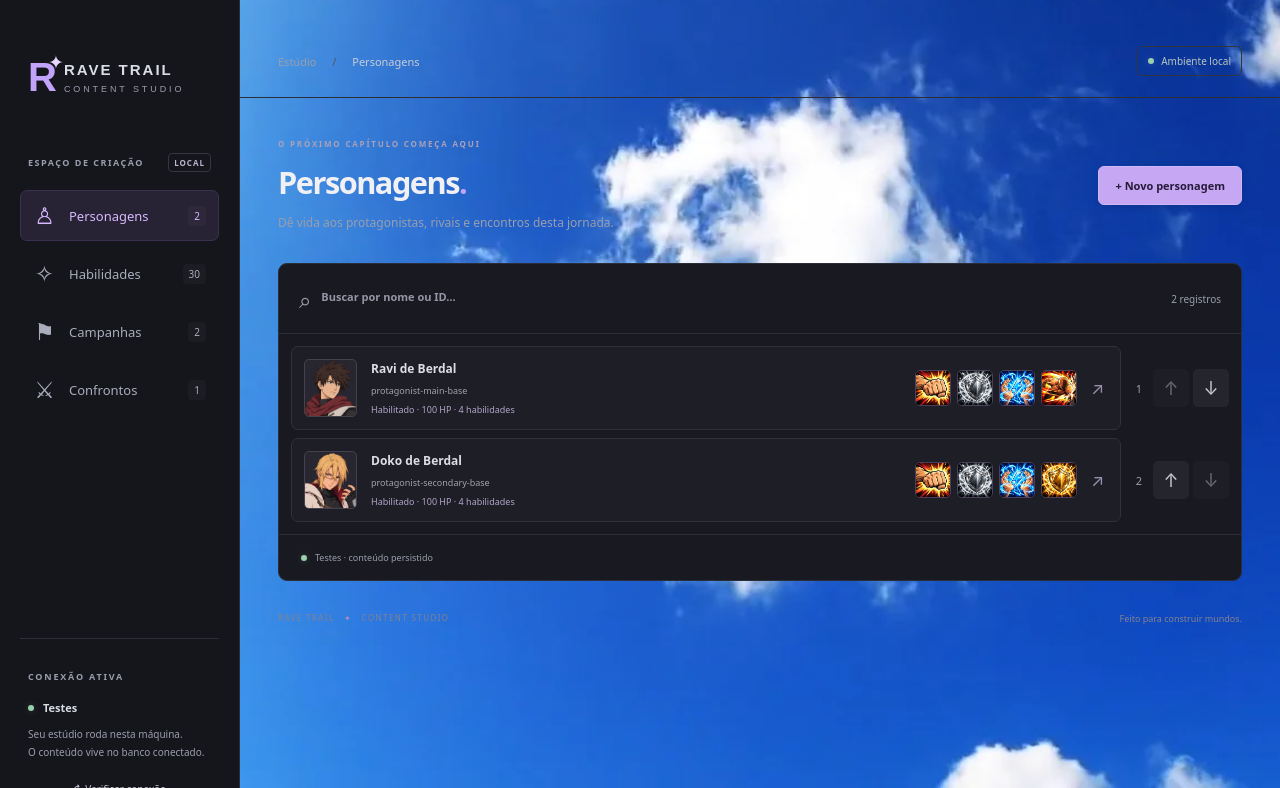
Test: edita missão e vitória sem mortes mantendo a aquisição Premium e o preço
(page scrolled)
Step 1. Click the button "Ravi de Berdal" → (330,388), box 291,346 -> 1121,430
(page scrolled)
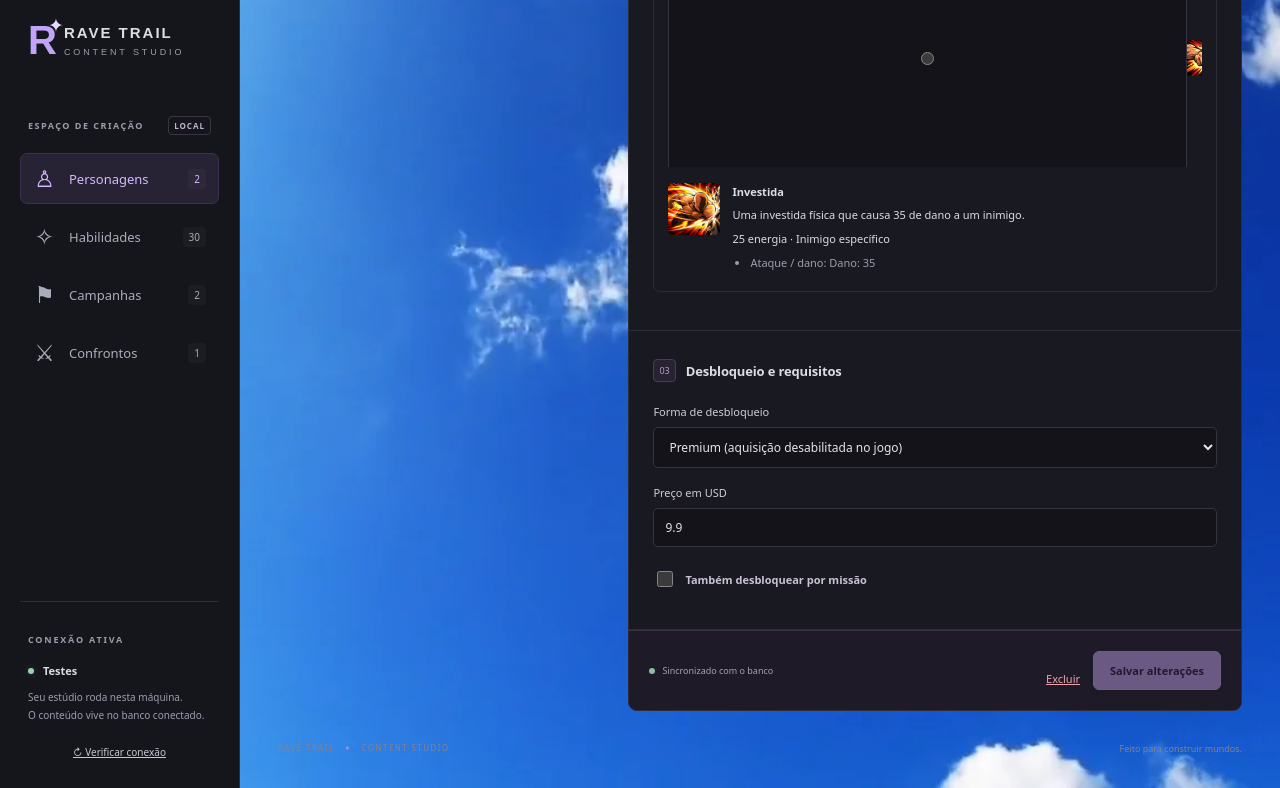
Result: the checkbox labelled "Também desbloquear por missão" is not checked
Step 2. Click the checkbox labelled "Também desbloquear por missão" → (665,579), box 657,571 -> 673,587
(page scrolled)
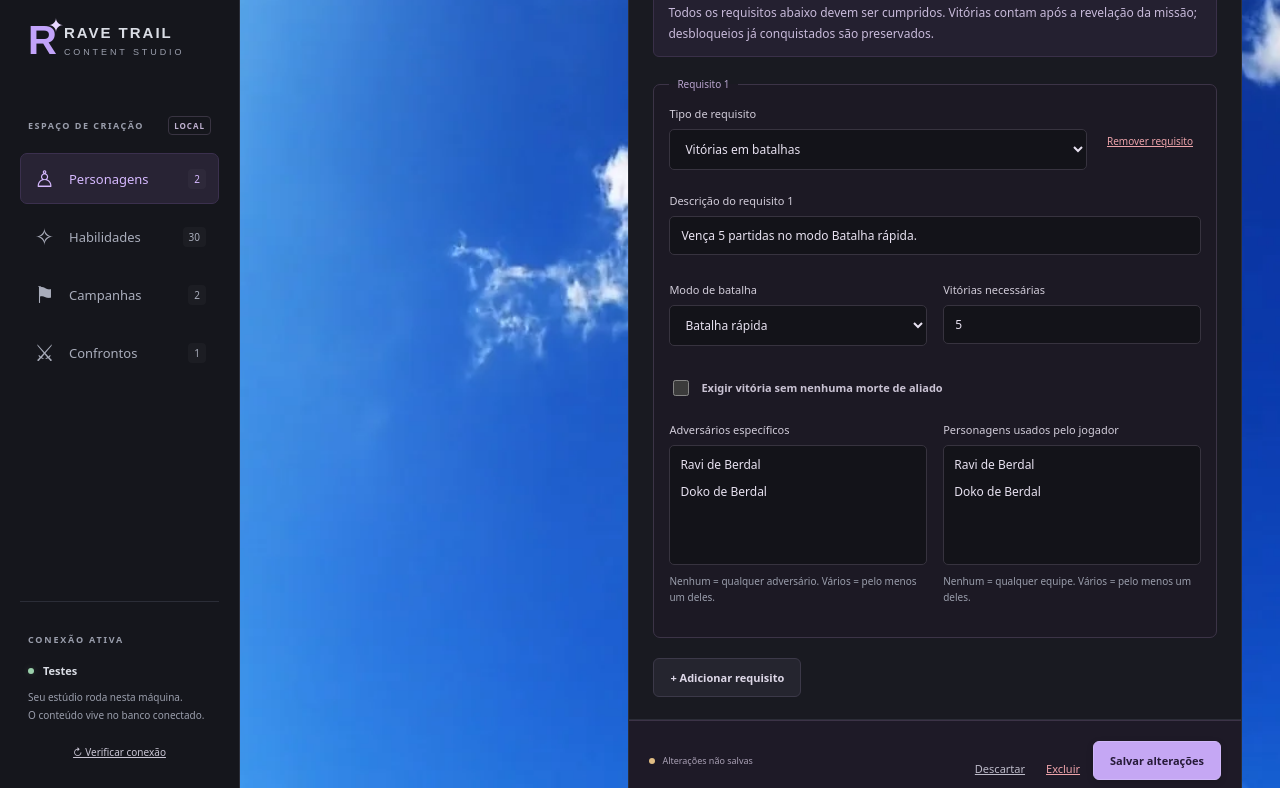
Step 3. Click the checkbox labelled "Exigir vitória sem nenhuma morte de aliado" → (681,388), box 673,380 -> 689,396
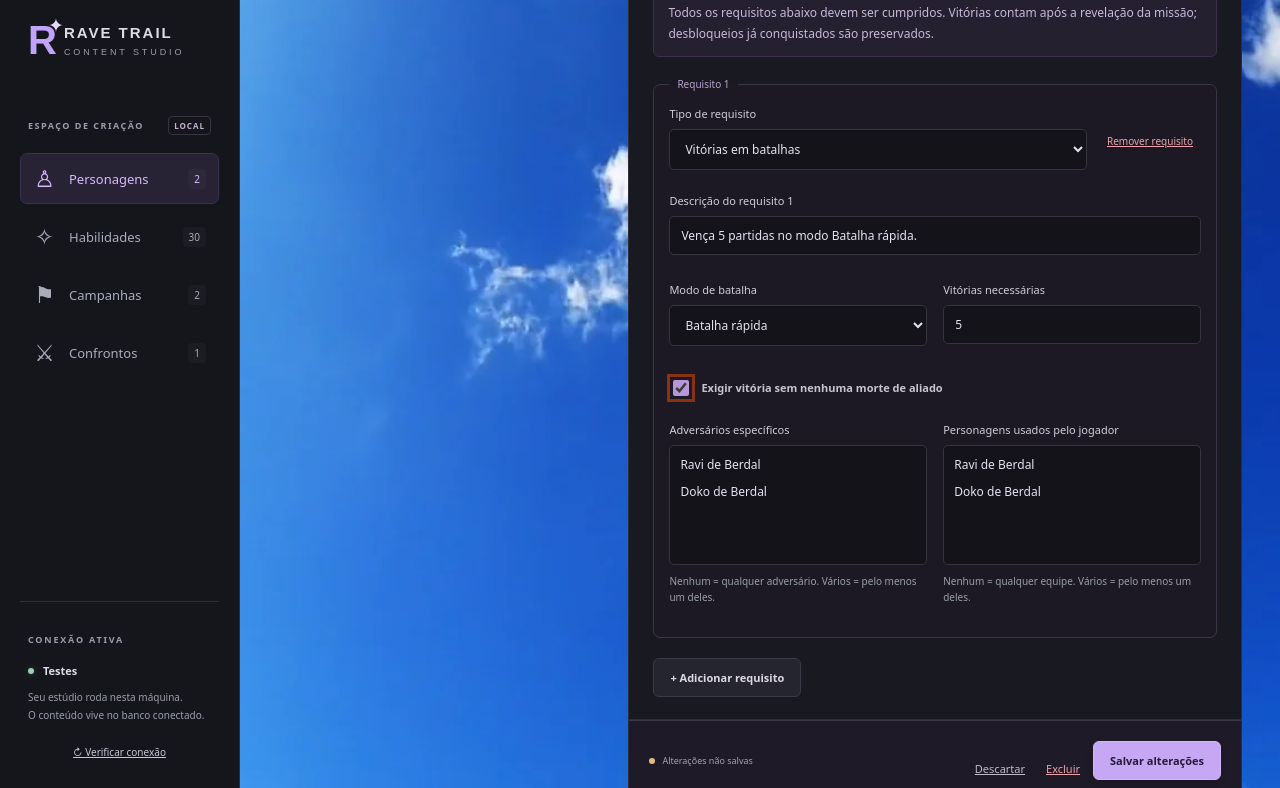
Step 4. Click the button "Salvar alterações" → (1157,761), box 1093,741 -> 1221,780
(page scrolled)
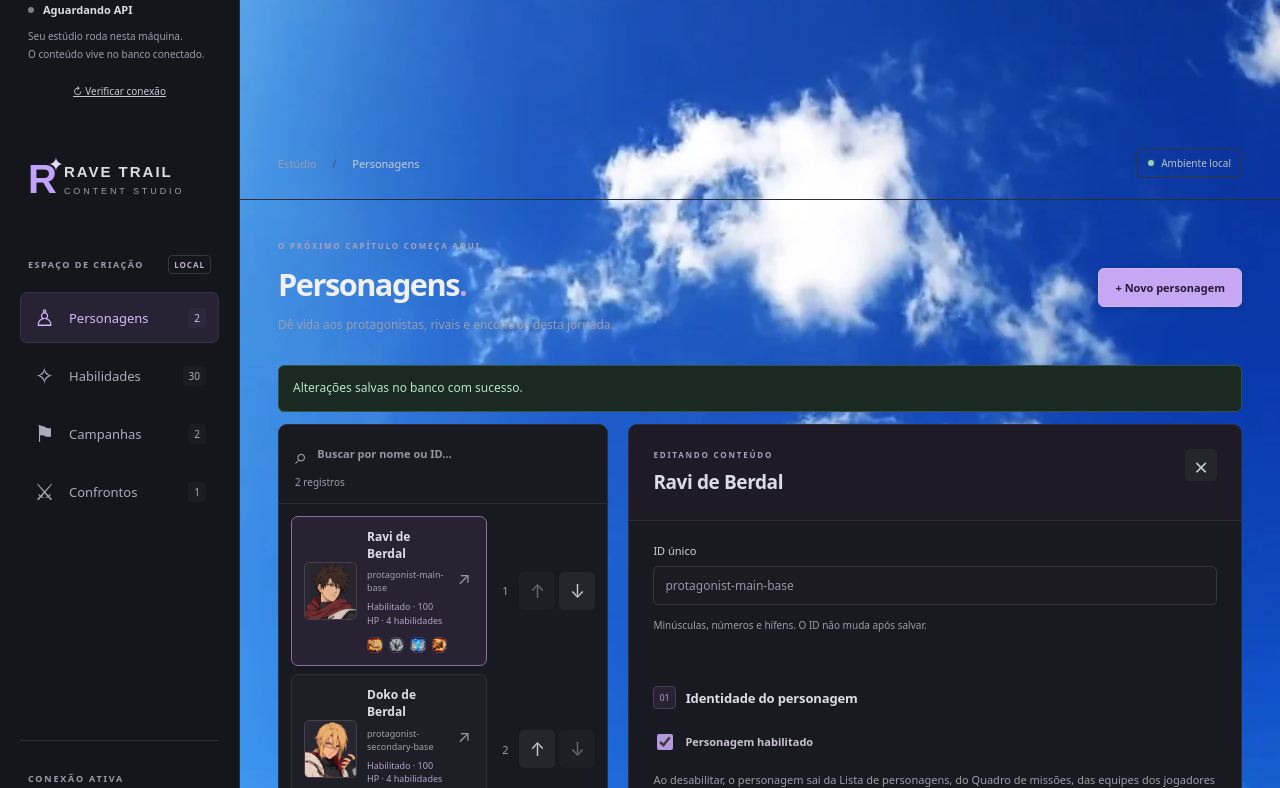
Result: the text "Alterações salvas no banco com sucesso." is shown at 278,365 -> 1242,412
